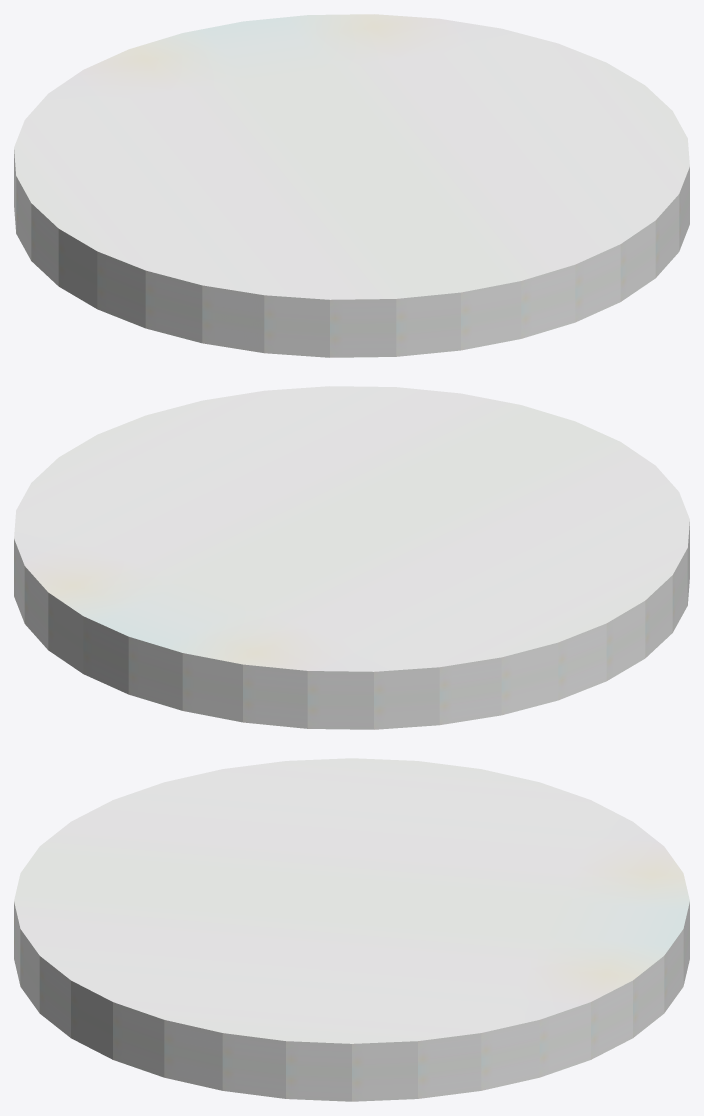
Rendered from ba2d-25m_col.obj.
The picture shows the model from 3 angles, top to bottom: view 1: azimuth 30°, elevation 25°; view 2: azimuth 150°, elevation 25°; view 3: azimuth 270°, elevation 25°; orthographic projection.
Visible parts, largest first — view 1: base25m; view 2: base25m; view 3: base25m.
Boxes of the visible parts, box(x1,y1,x2,y2) form: base25m: box(14, 14, 689, 357); base25m: box(14, 386, 689, 729); base25m: box(14, 758, 689, 1101).
Bounding box in the file's own units: 1.01 × 0.095 × 1.01.
Materials: 1 (1 with a texture image).
